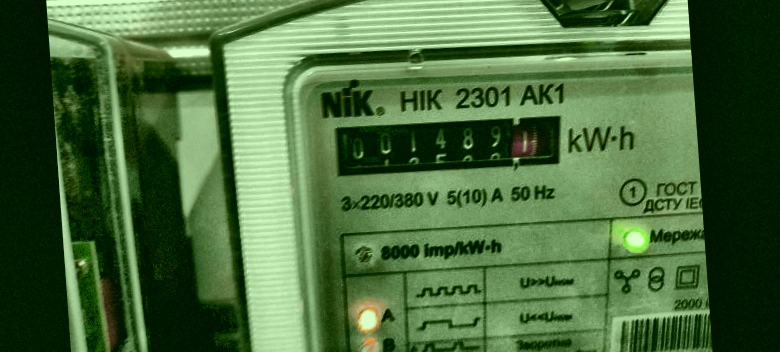0: (349, 134, 366, 160), (376, 128, 393, 154)
1: (405, 125, 421, 155), (517, 123, 531, 154)
4: (432, 124, 449, 151)
8: (457, 122, 476, 150)
9: (487, 122, 503, 148)
screen: (319, 99, 579, 193)
